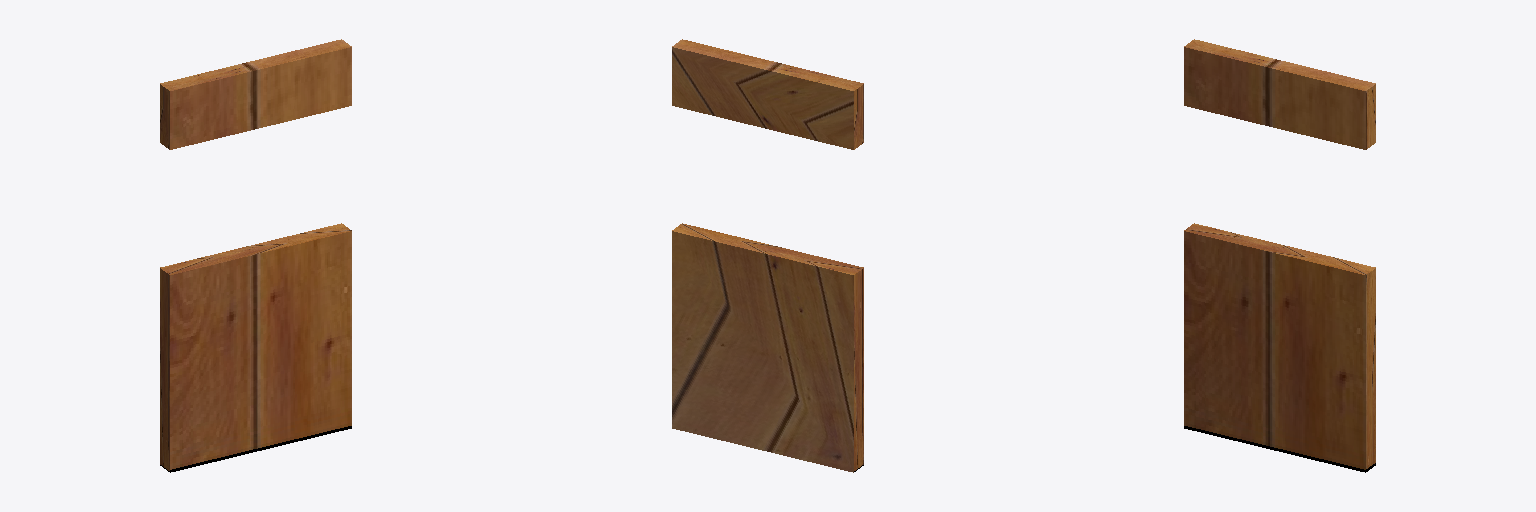
The picture shows the model from 3 angles: view 1: azimuth 30°, elevation 25°; view 2: azimuth 150°, elevation 25°; view 3: azimuth 330°, elevation 25°; orthographic projection.
Visible parts, largest first — view 1: default; view 2: default; view 3: default.
Boxes of the visible parts, <box> form: default: <box>160,39,351,472</box>; default: <box>672,39,863,472</box>; default: <box>1184,39,1375,472</box>.
Bounding box in the file's own units: 1 × 2 × 0.1.
1 materials, 1 textured.